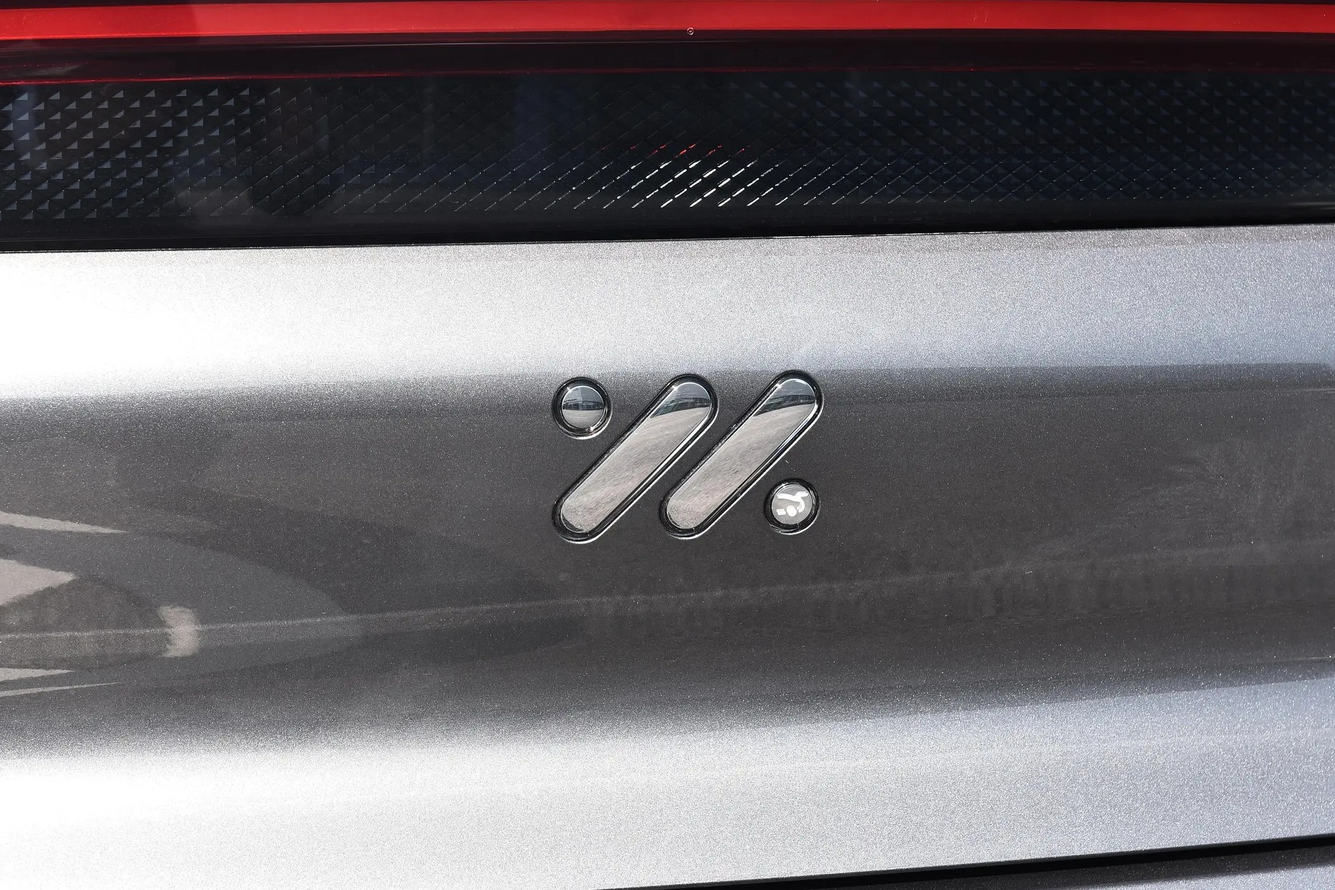IM: (561, 378, 815, 530)
